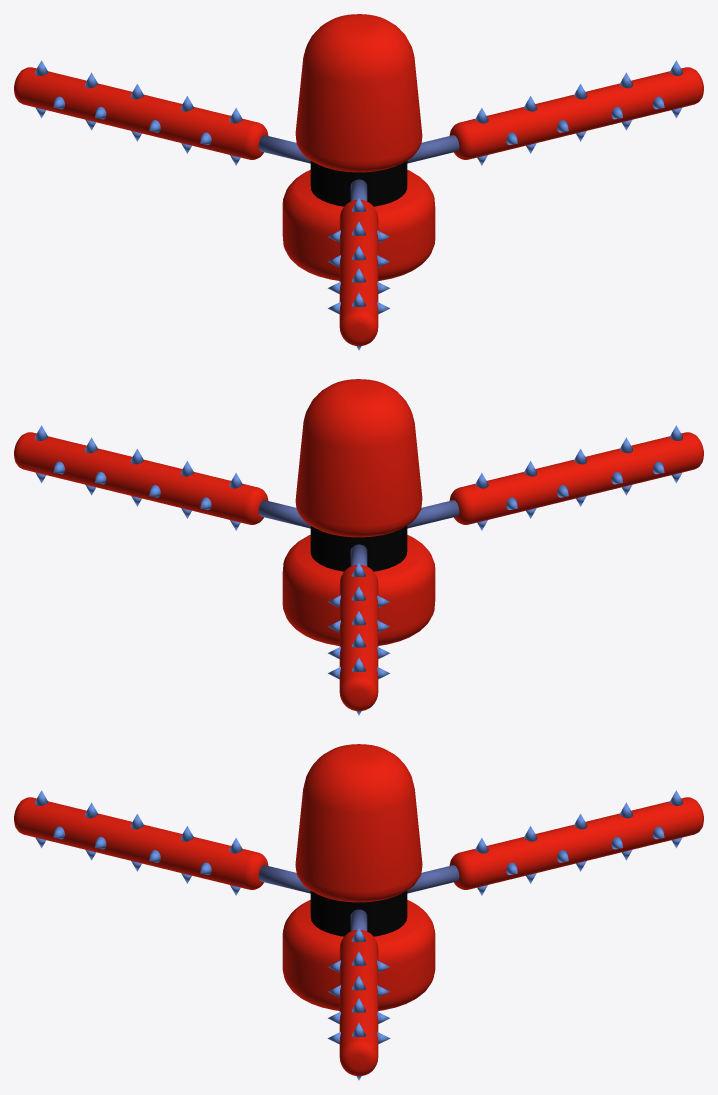
Rendered from engel3.1_1.fbx.
The picture shows the model from 3 angles, top to bottom: view 1: azimuth 30°, elevation 25°; view 2: azimuth 150°, elevation 25°; view 3: azimuth 270°, elevation 25°; orthographic projection.
Parts seen in each view (by area): view 1: Circle.002, Circle.003; view 2: Circle.002, Circle.003; view 3: Circle.002, Circle.003.
Boxes of the visible parts, x1,y1,x2,y2 form: Circle.002: (282,14,435,280); Circle.003: (14,60,703,350); Circle.002: (282,379,435,645); Circle.003: (14,425,703,715); Circle.002: (282,744,435,1010); Circle.003: (14,790,703,1080).
Bounding box in the file's own units: 49.8 × 21.2 × 57.22.
